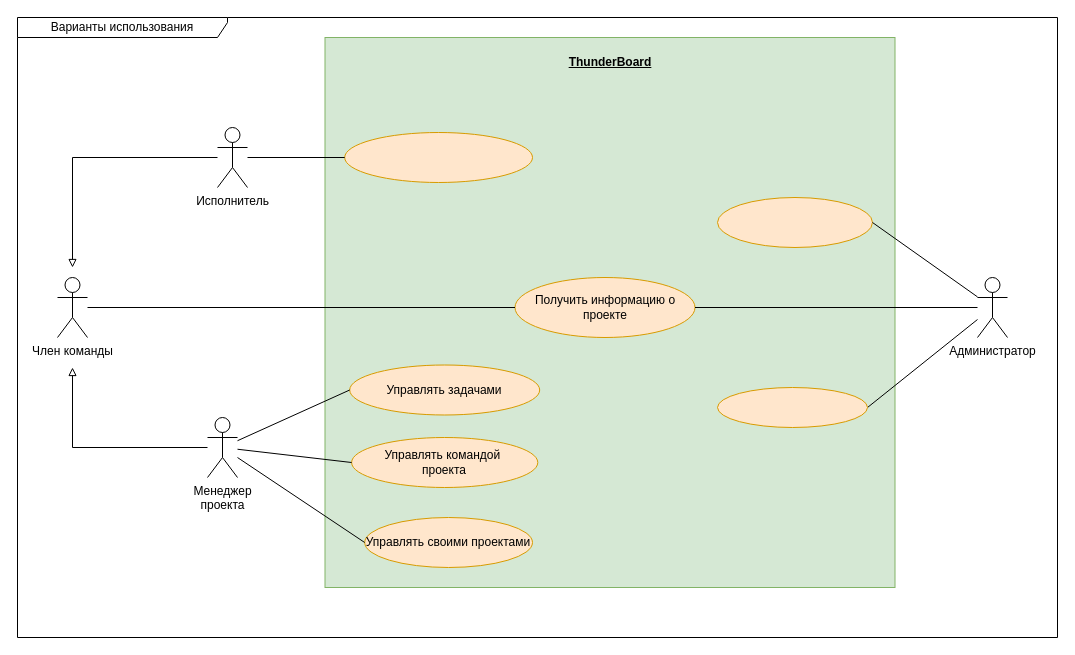
Image size: 1075x655. Some labels were removed from this diagram. Each missing label, with the centre of its shape:
"Управлять пользователями" goes at point (794, 222).
"Управлять проектами" goes at point (792, 407).
"Управлять своими задачами" goes at point (438, 157).
